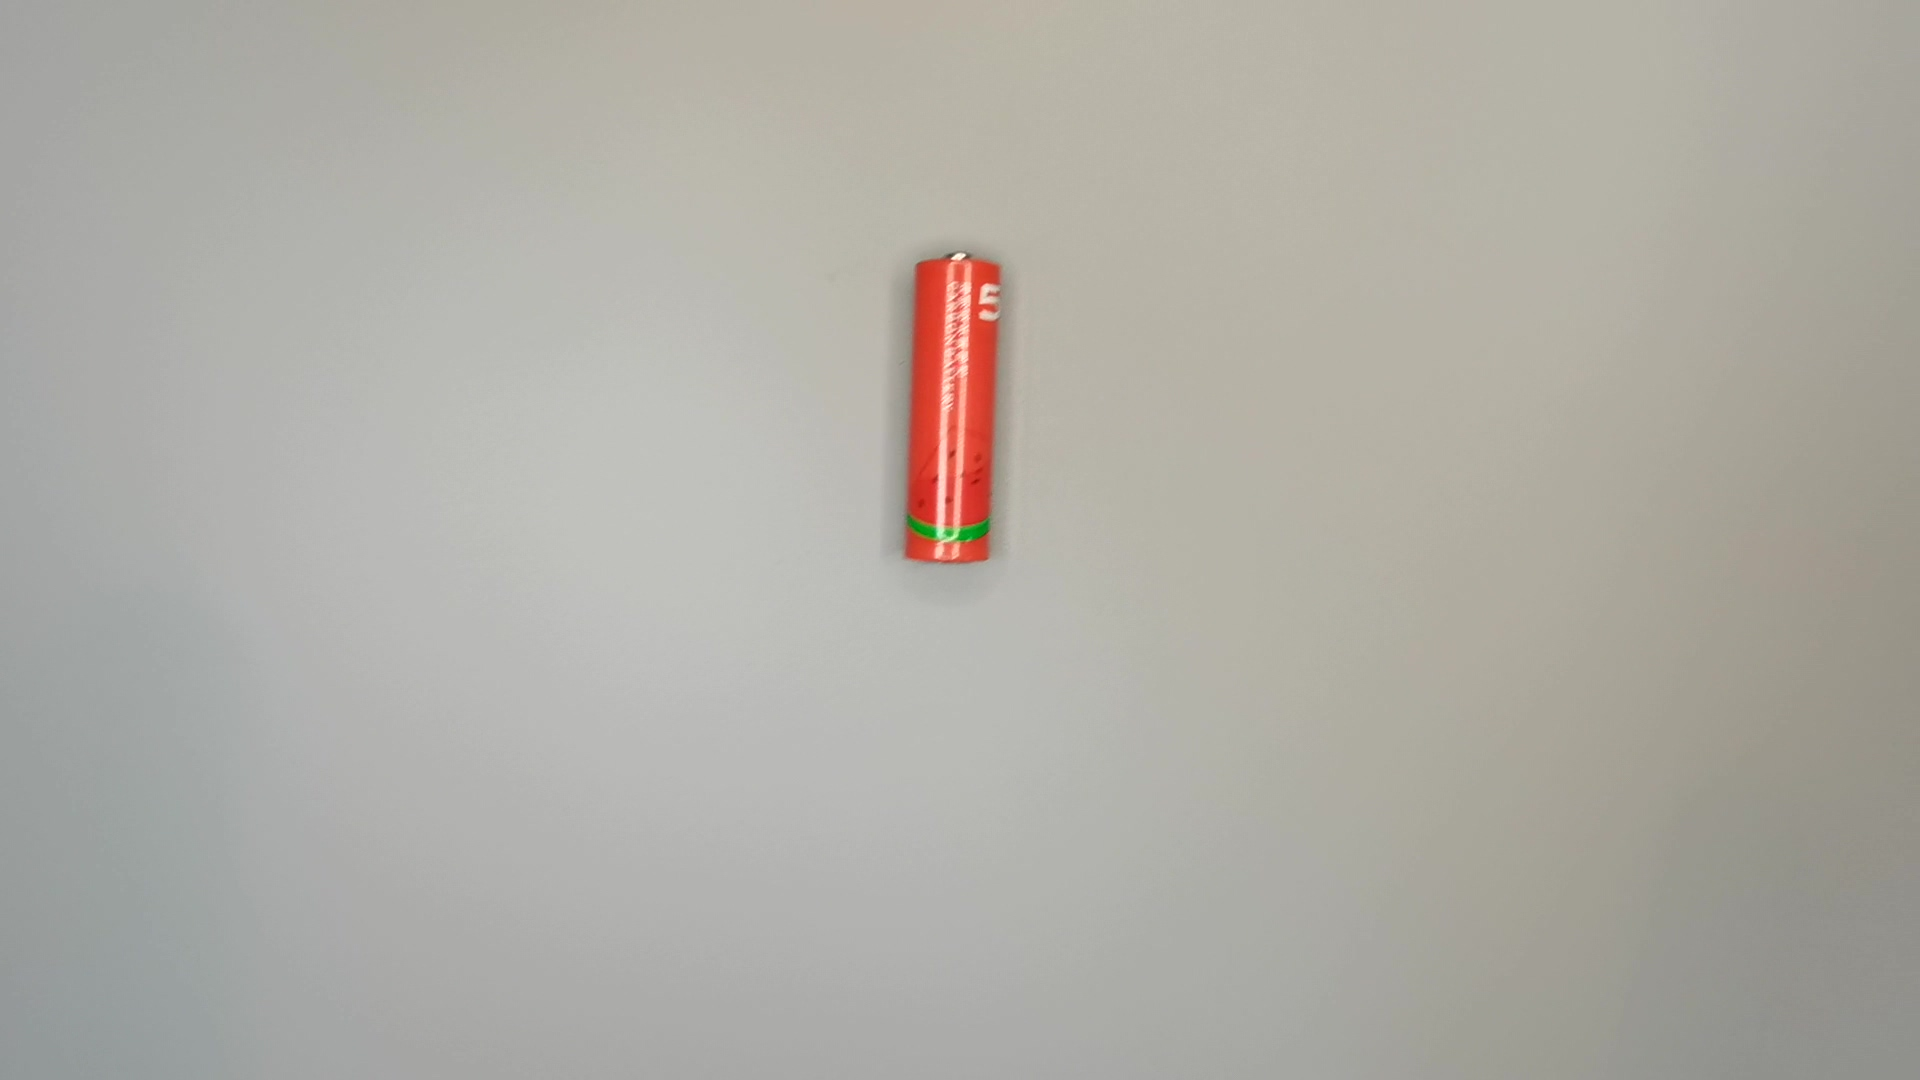battery: (891, 241, 1011, 574)
